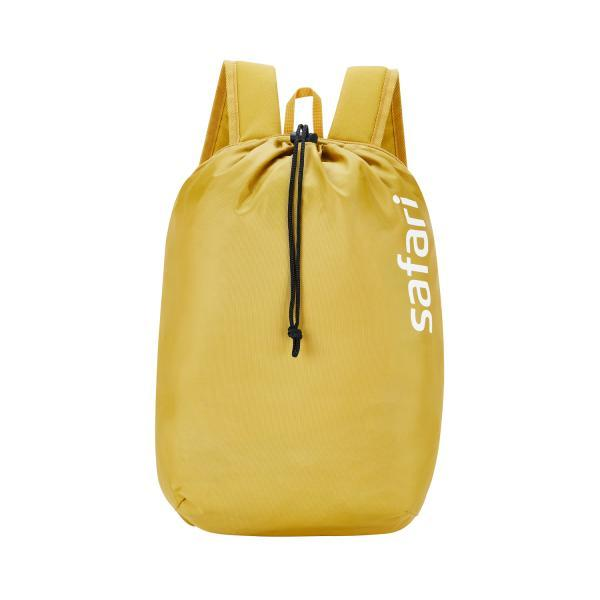backpack: (154, 59, 445, 537)
